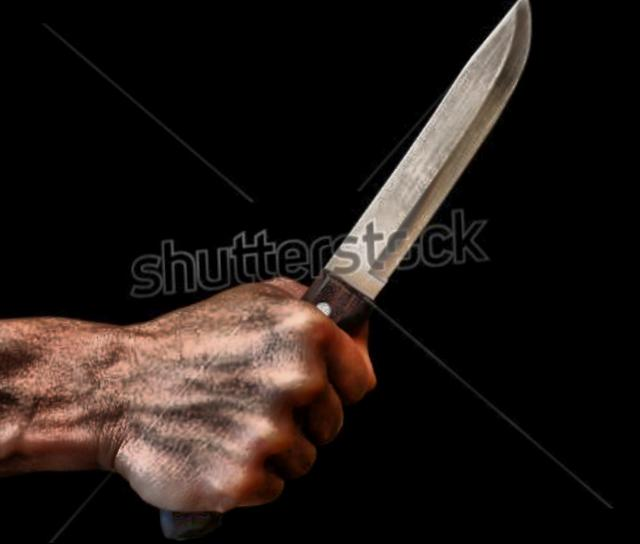knife: (199, 0, 580, 512)
